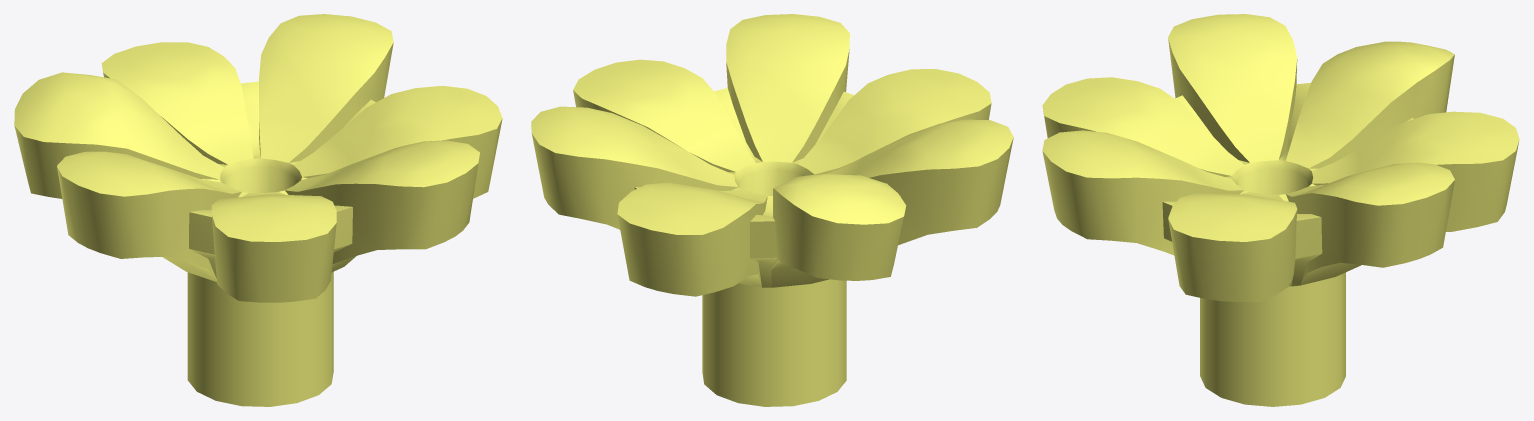
3 renders of one model, left to right at view 1: azimuth 30°, elevation 25°; view 2: azimuth 150°, elevation 25°; view 3: azimuth 270°, elevation 25°, orthographic.
Visible parts, largest first — view 1: 32606.dat; view 2: 32606.dat; view 3: 32606.dat.
Boxes of the visible parts, left/top/right/bottom form: 32606.dat: left=14, top=14, right=502, bottom=406; 32606.dat: left=531, top=14, right=1013, bottom=406; 32606.dat: left=1042, top=14, right=1519, bottom=406.
Bounding box in the file's own units: 0.0106 × 0.00648 × 0.0105.
